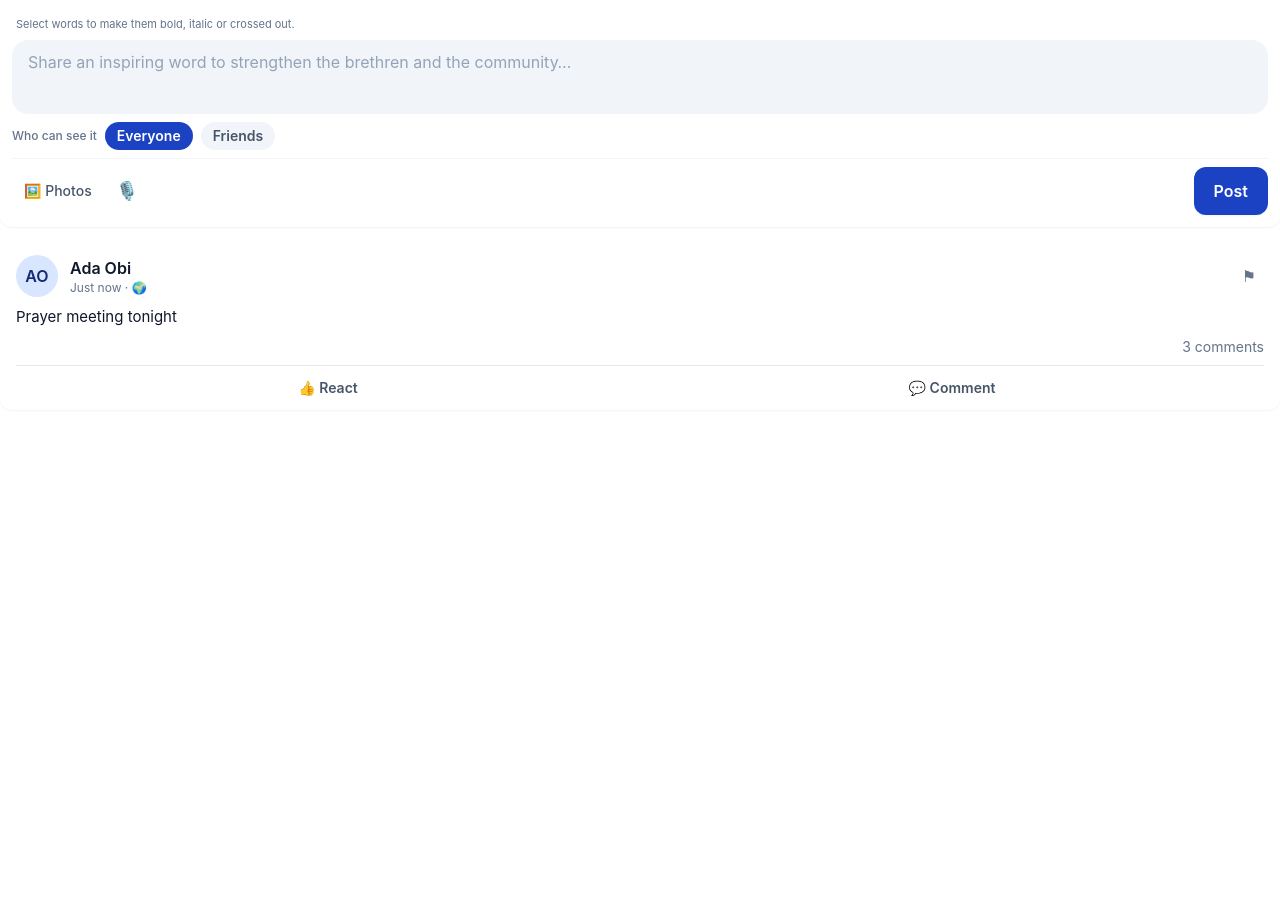
Test: Comments with likes and replies › react to a comment with one of the six reactions
The image size is (1280, 900).
Click the button "💬 Comment" at (952, 388), box x1=640 y1=370 x2=1264 y2=406
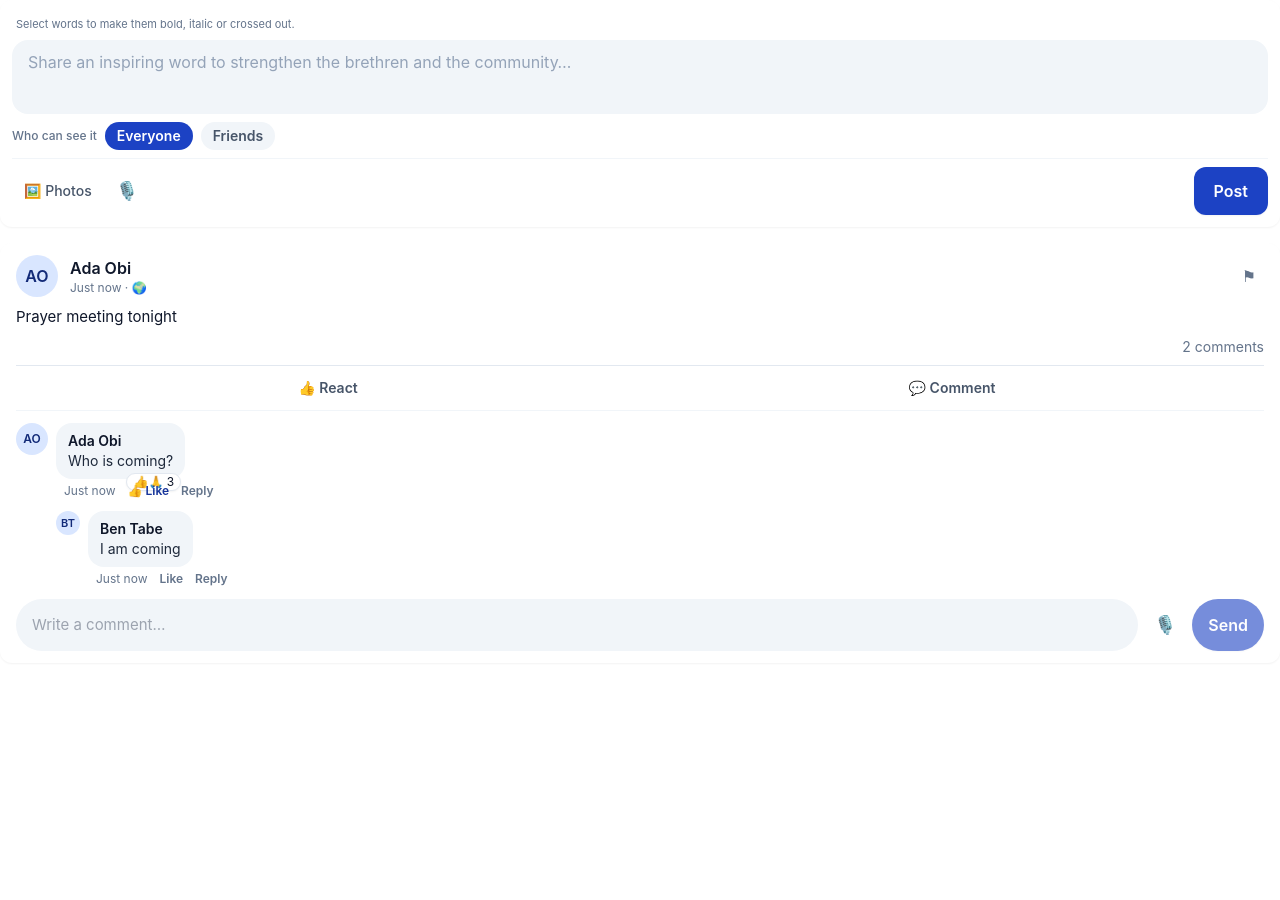
Click the button "Like" at (171, 579), box x1=160 y1=571 x2=183 y2=587
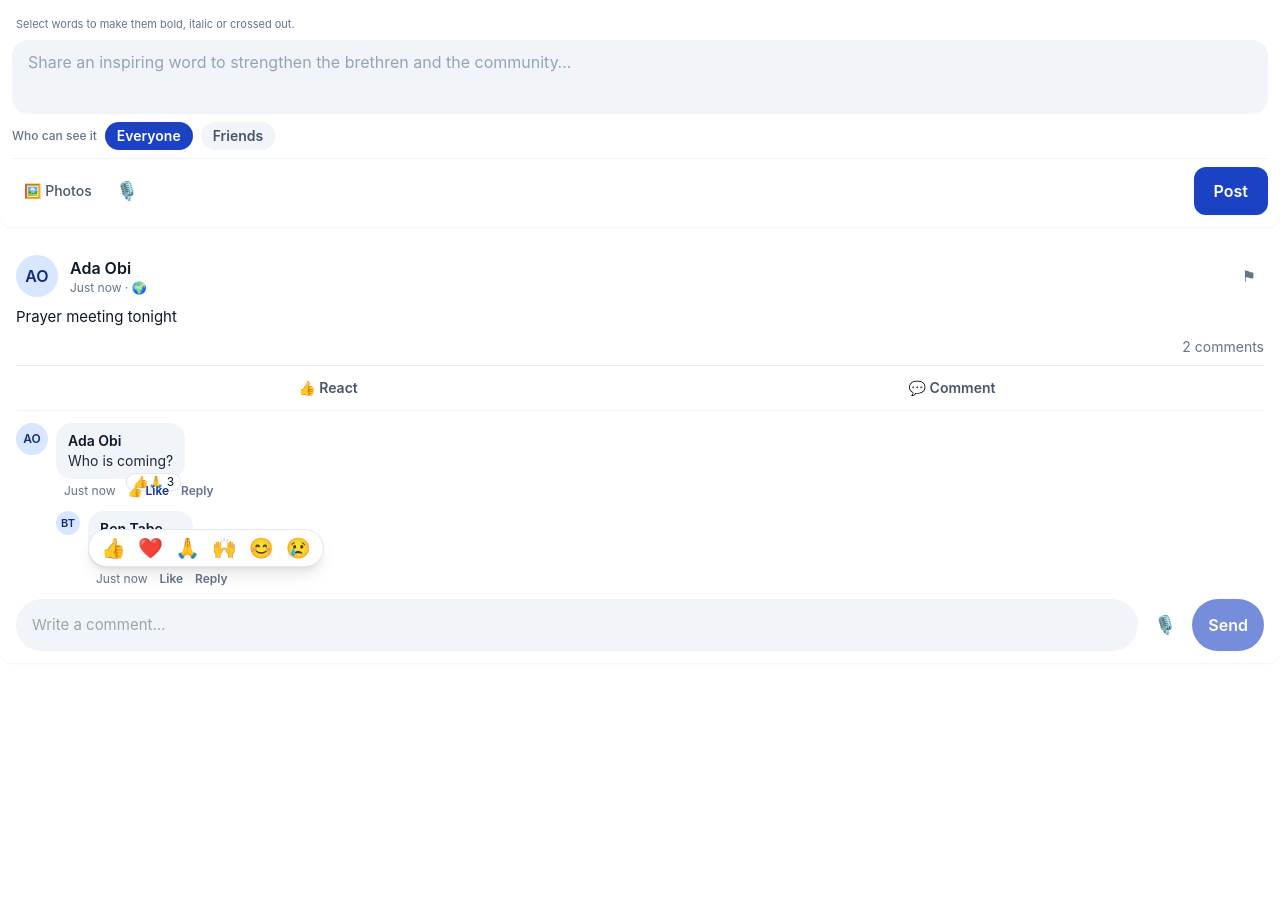
Click the menu item named "Love" at (150, 548), box x1=134 y1=534 x2=167 y2=562
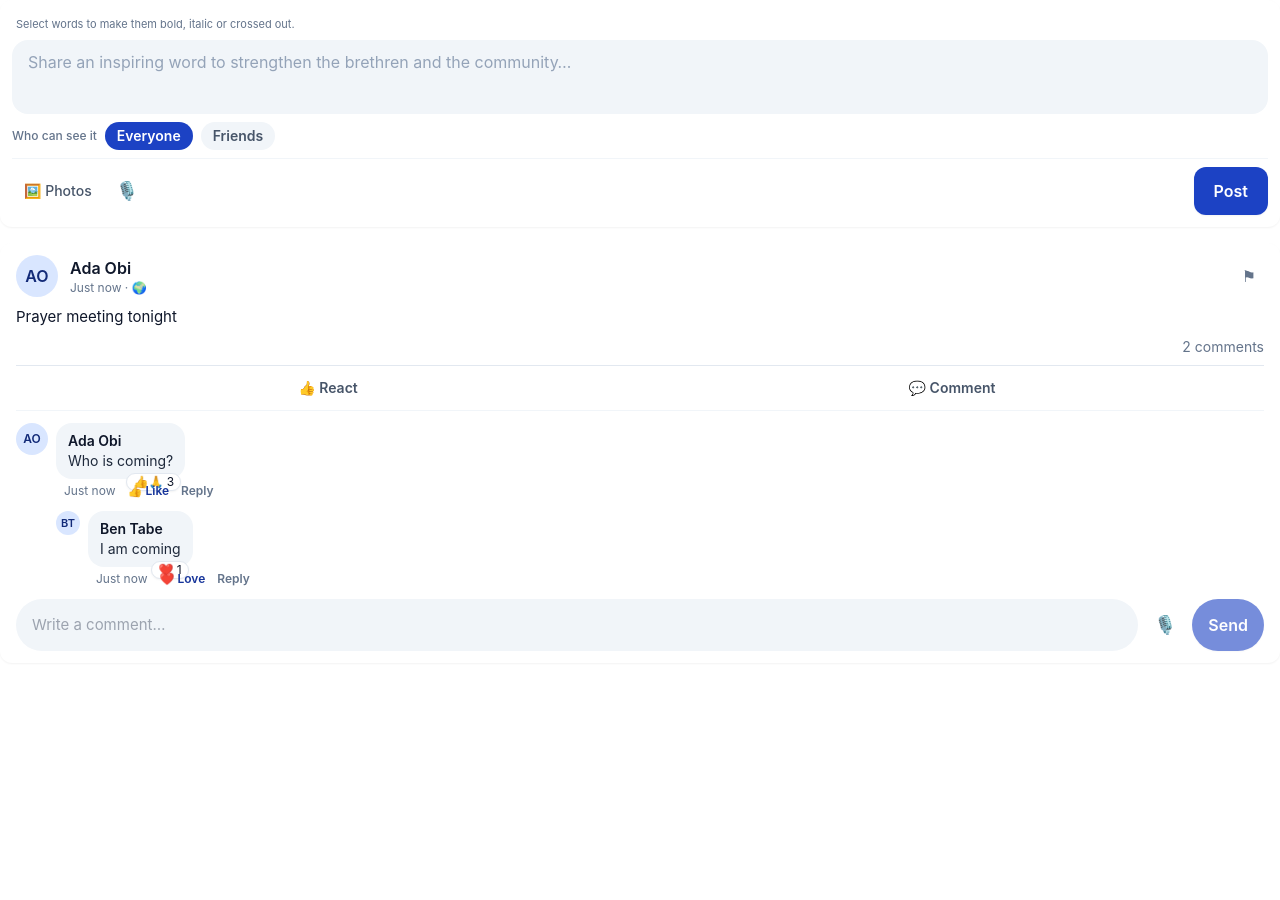
Expected: the button "❤️ 1" is shown, x1=151 y1=561 x2=189 y2=579
